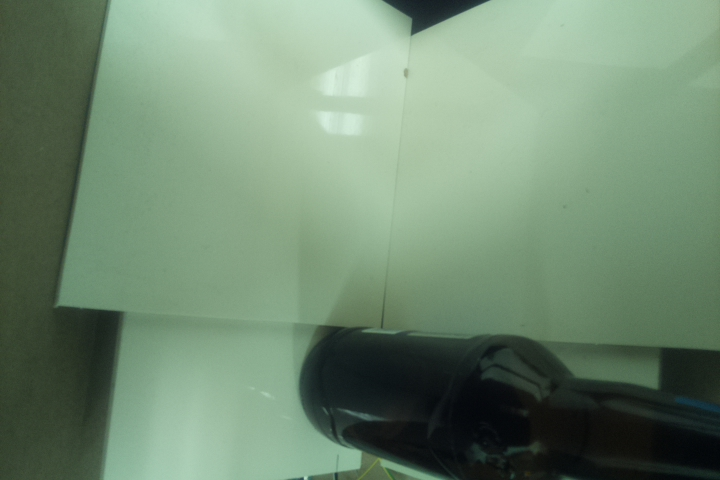makju: (298, 325, 720, 479)
